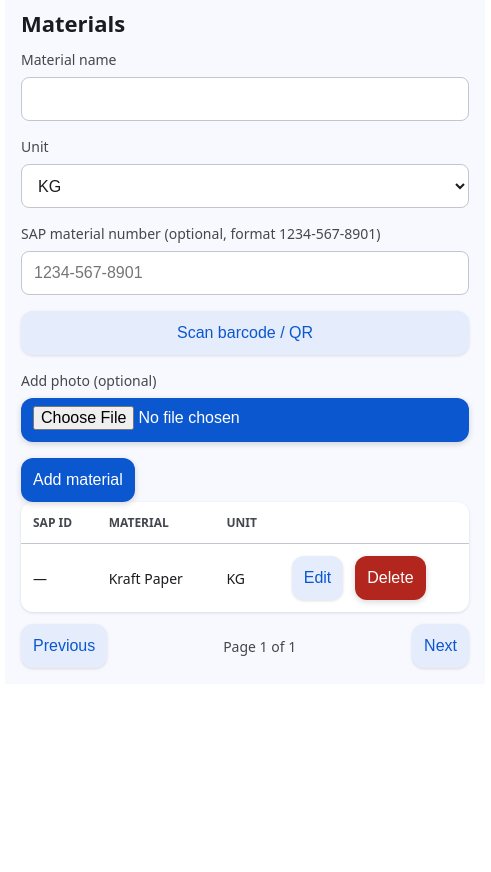
it: MaterialsPage › edits an existing material
The image size is (491, 872).
Expected: the text "Kraft Paper" is shown, [97, 544, 214, 612]
Click the button "Edit" at (318, 578), box [292, 556, 343, 600]
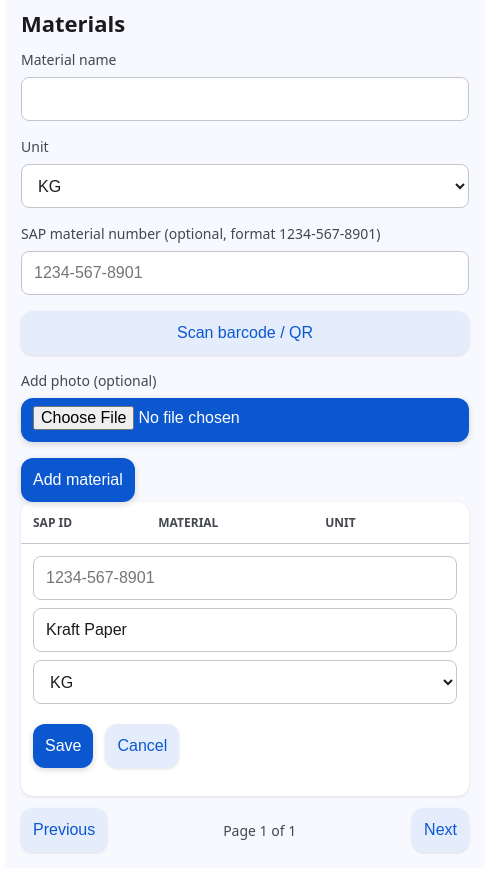
Replace the text in the field named "edit name" with "Kraft Paper (Grade A)" at (245, 630), box [33, 608, 457, 652]
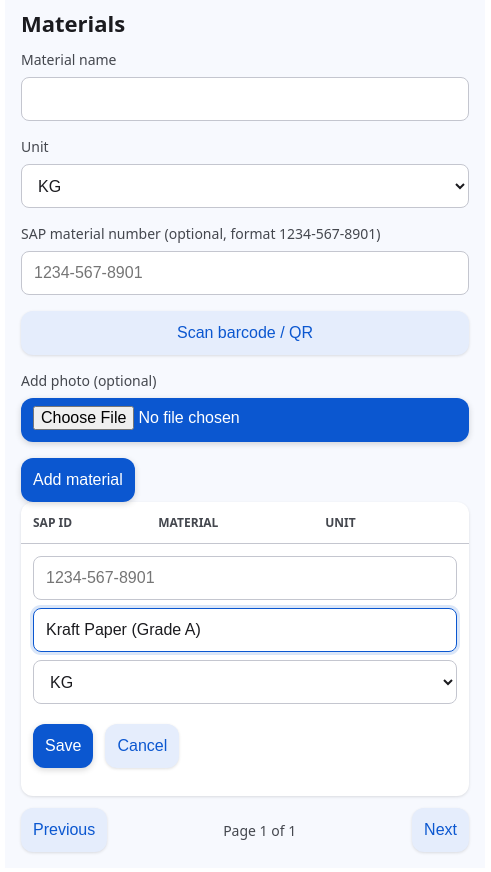
Click the button "Save" at (63, 746), box [33, 724, 94, 768]
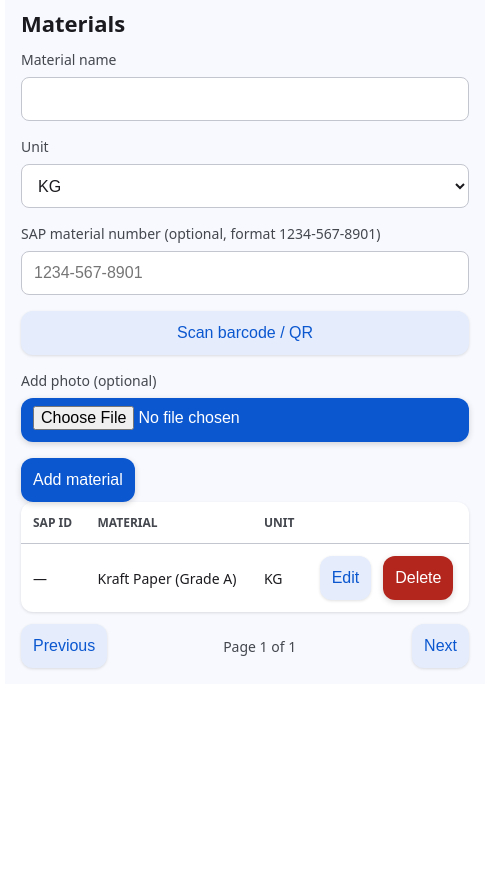
Expected: the text "Kraft Paper (Grade A)" is shown, [86, 544, 252, 612]
